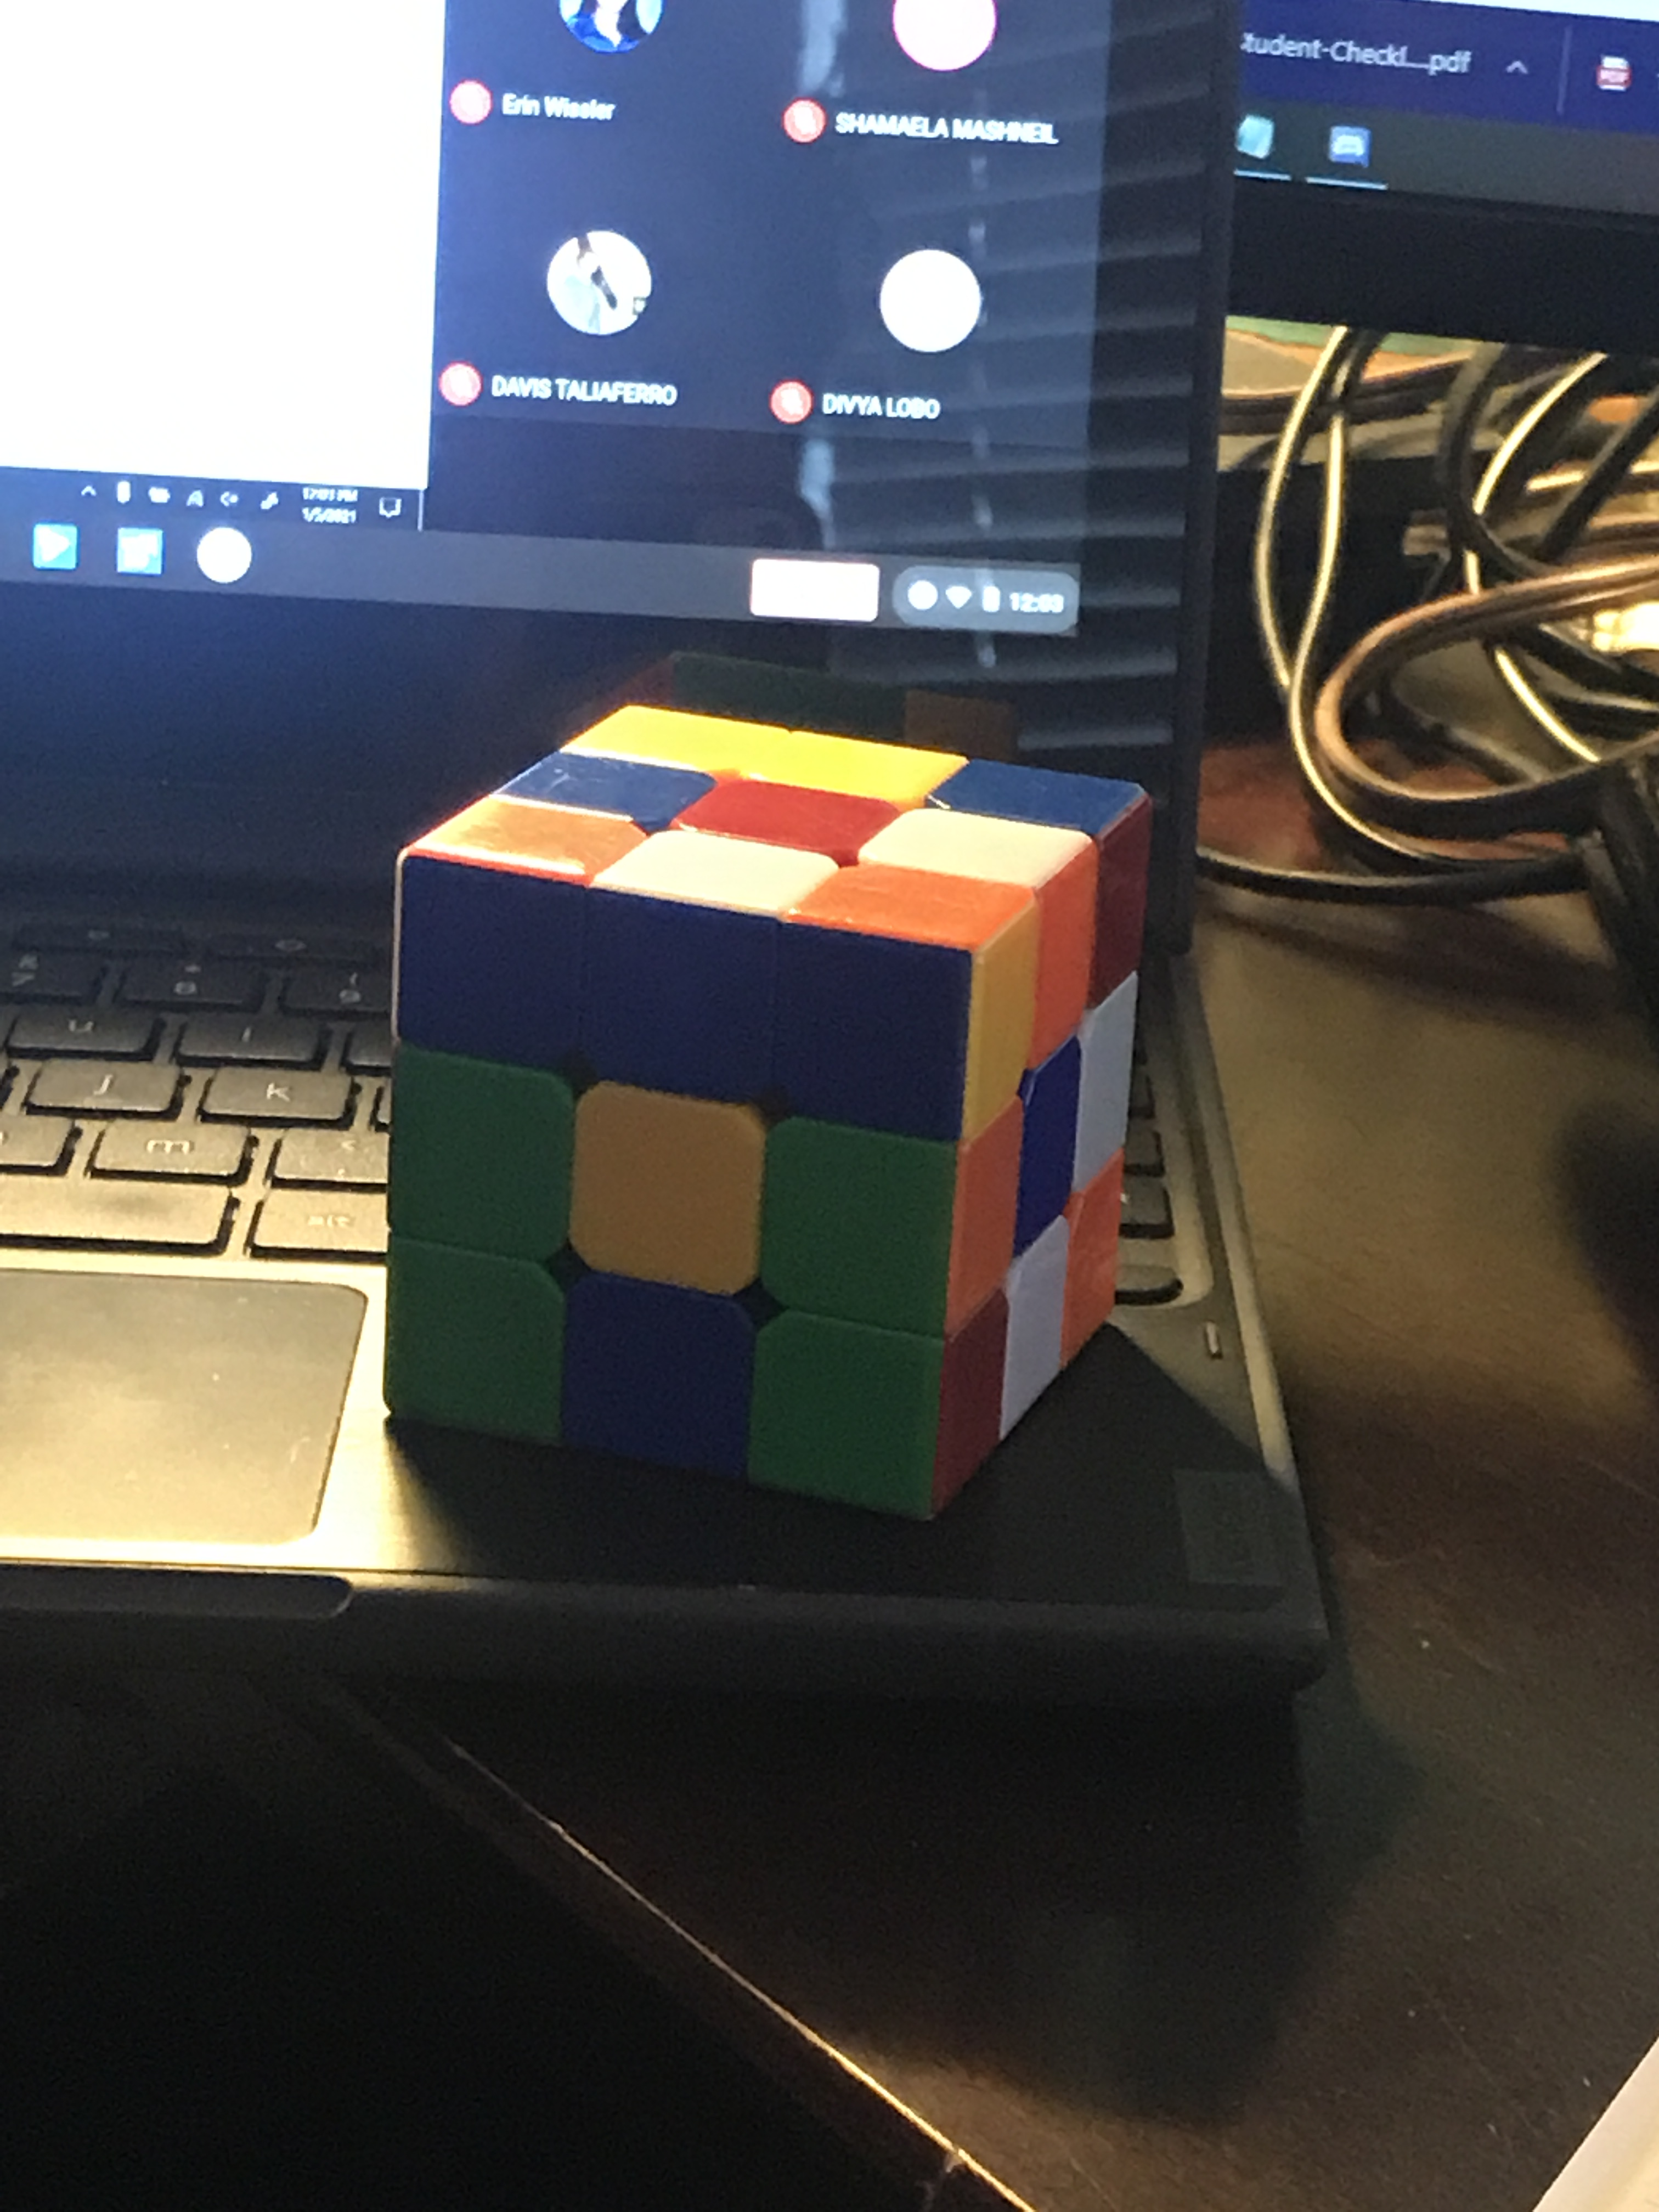rubiks: (380, 705, 1185, 1534)
